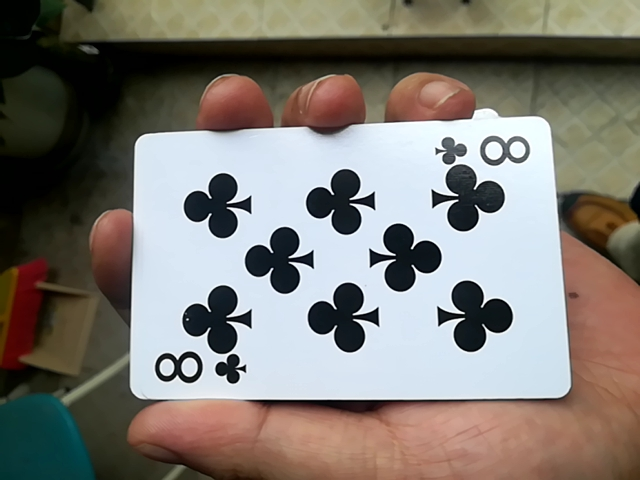mh 8: (116, 121, 564, 426)
